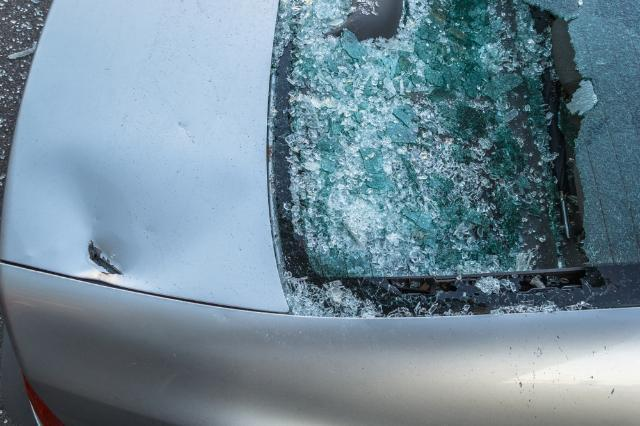crack: (88, 242, 121, 276)
dent: (11, 143, 136, 278)
glass shatter: (267, 0, 640, 318)
